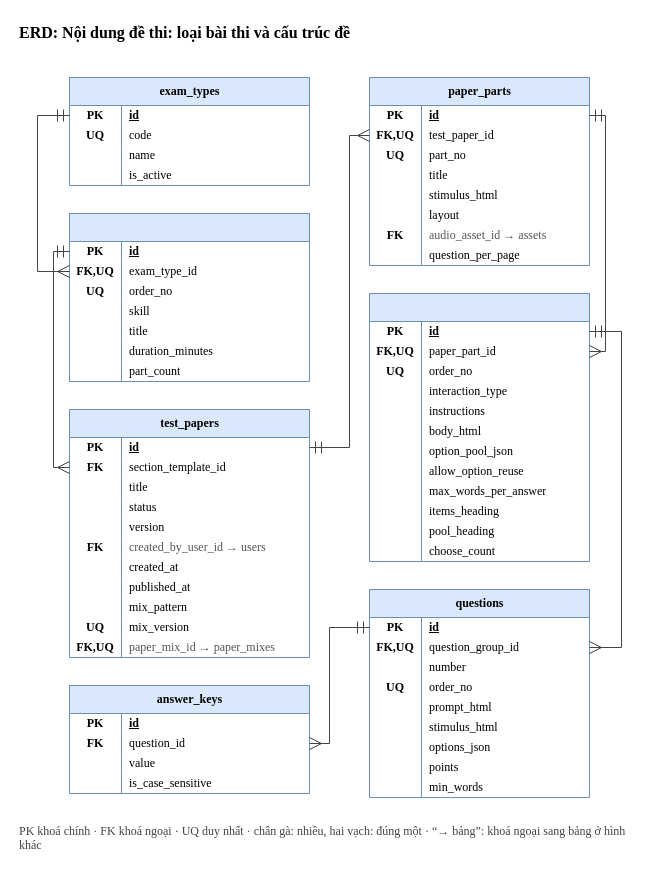
Some shapes in this 654 by 878 pixel diagram are drawn without their labels. The box of each missing label's shape, as (x1, y1, x2, y2) in pixels:
question_groups: (368, 292, 590, 562)
section_templates: (68, 212, 310, 382)
